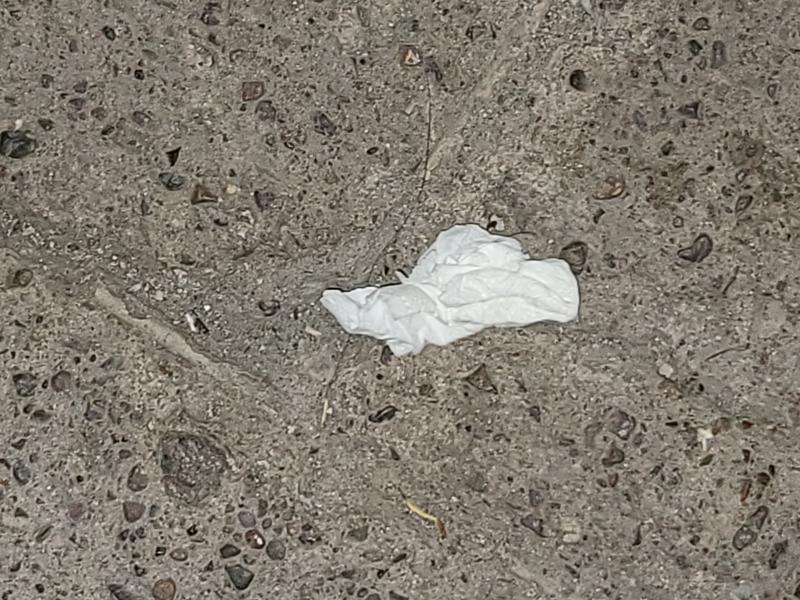papel: (320, 225, 580, 359)
